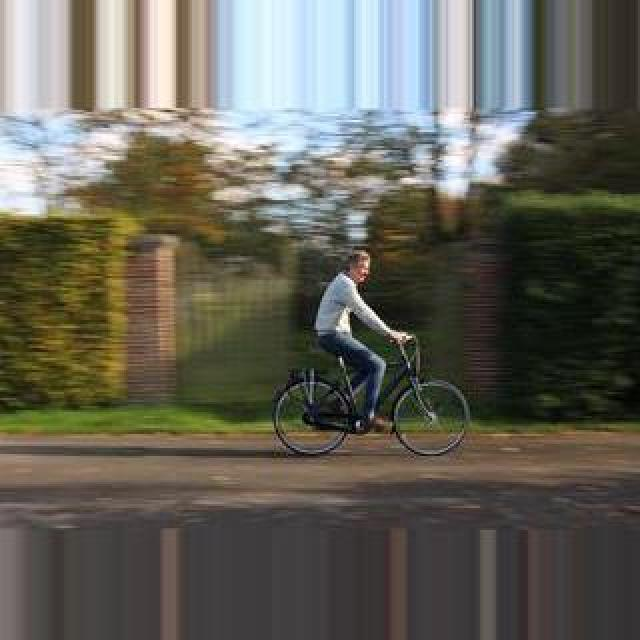MC-Bike: (314, 252, 410, 432)
Person: (271, 332, 467, 456)
